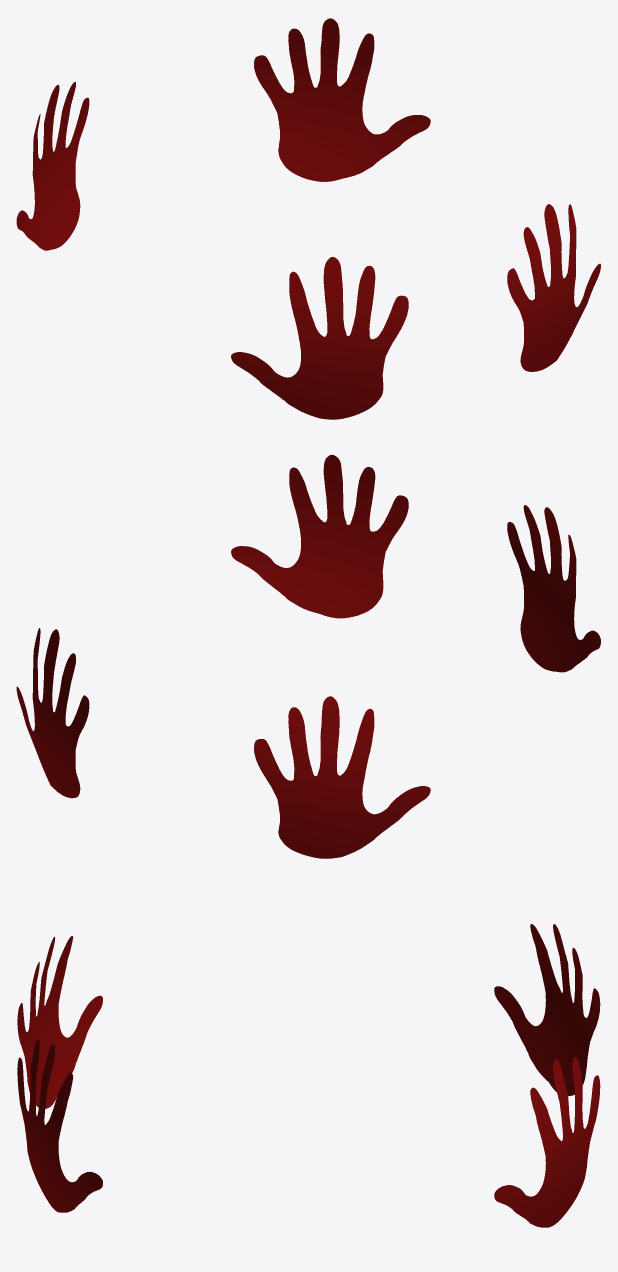
Rendered from hands0.1.fbx.
3 renders of one model, top to bottom at view 1: azimuth 30°, elevation 25°; view 2: azimuth 150°, elevation 25°; view 3: azimuth 270°, elevation 25°, orthographic.
Visible parts, largest first — view 1: pSphere7; view 2: pSphere7; view 3: pSphere7.
Part boxes in pixels (box(x1,y1,x2,y2)): pSphere7: box(16, 18, 600, 419); pSphere7: box(16, 454, 600, 858); pSphere7: box(17, 924, 600, 1227).
Bounding box in the file's own units: 5.45 × 2.08 × 6.51.
